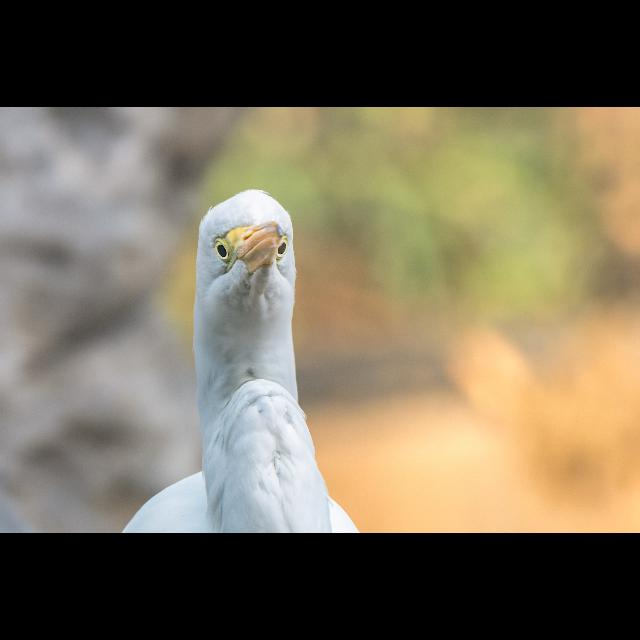egret: (176, 180, 344, 534)
